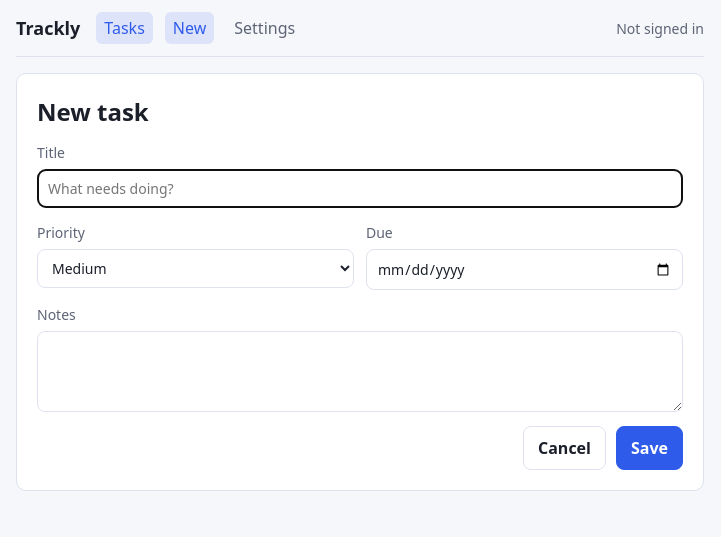
Test case: screens › rejects an empty title
Click the button with test id "save-button" at {"x": 650, "y": 448}, box [616,426,683,470]
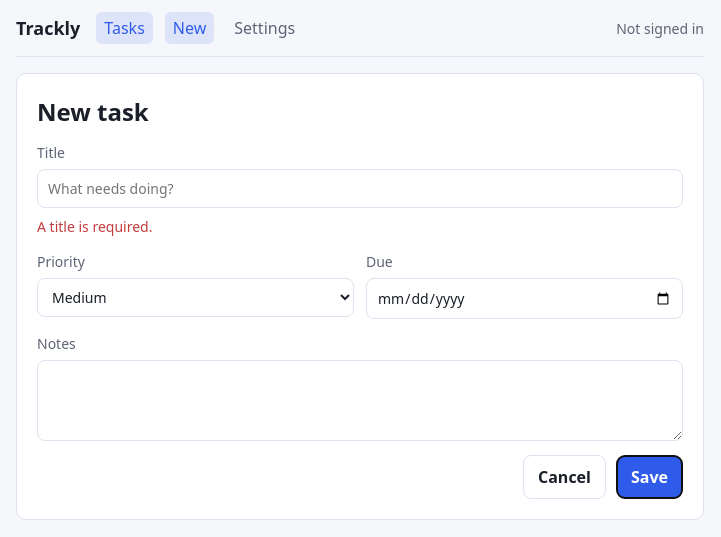
Check: the message with test id "form-error" reads "A title is required.", box [37,217,152,236]
